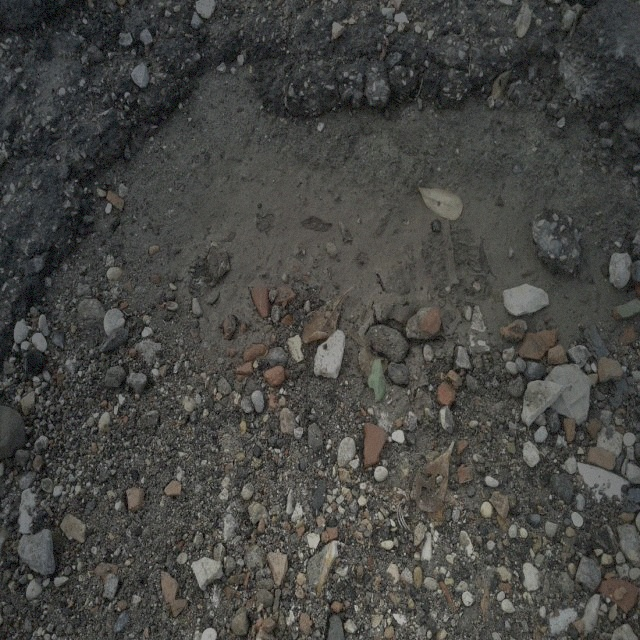pothole: (34, 30, 533, 395)
